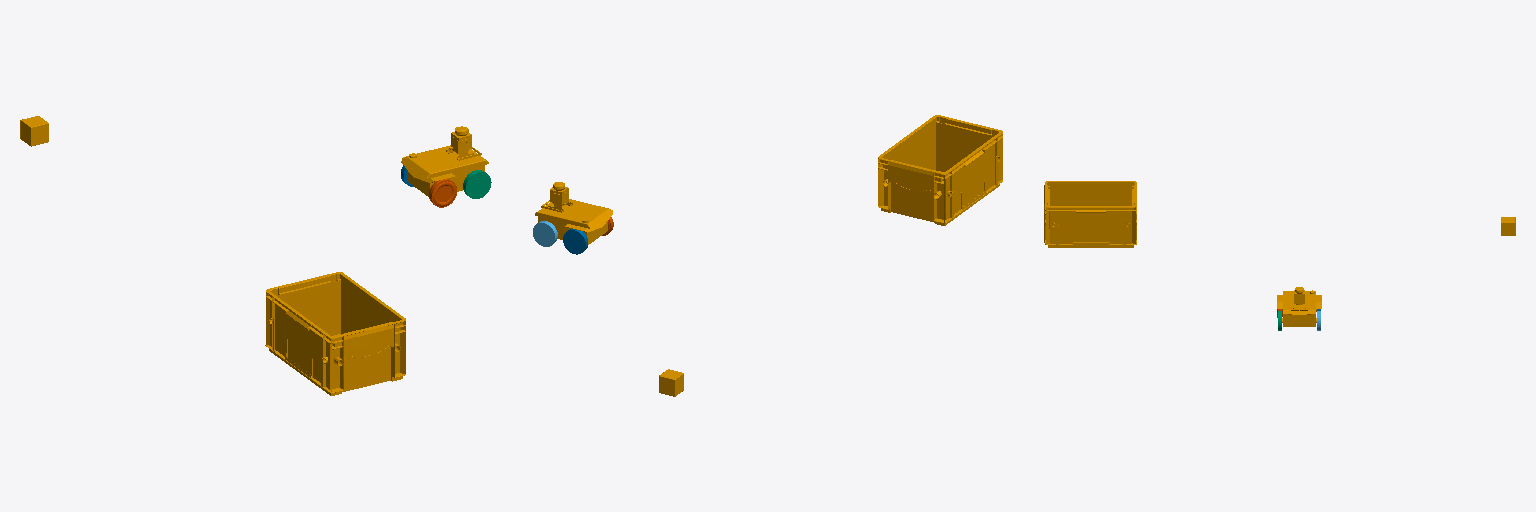
robot.urdf — jackal:
<?xml version="1.0" encoding="UTF-8"?>
<robot name="jackal">
  <joint name="front_left_wheel_joint" type="continuous">
    <origin xyz="0.131 0.187795 0.0945 " rpy="0. 0. 1.5707964"/>
    <parent link="World"/>
    <child link="front_left_wheel_link"/>
    <axis xyz="1. 0. 0."/>
  </joint>
  <joint name="front_right_wheel_joint" type="continuous">
    <origin xyz="0.131 -0.187795 0.0945 " rpy="0. 0. 1.5707964"/>
    <parent link="World"/>
    <child link="front_right_wheel_link"/>
    <axis xyz="1. 0. 0."/>
  </joint>
  <joint name="joint_World-imu_sensor" type="fixed">
    <origin xyz="0.012 0.002 0.127" rpy="0. 0. 0."/>
    <parent link="World"/>
    <child link="imu_sensor"/>
  </joint>
  <joint name="rear_left_wheel_joint" type="continuous">
    <origin xyz="-0.131 0.187795 0.0945 " rpy="0. 0. 1.5707964"/>
    <parent link="World"/>
    <child link="rear_left_wheel_link"/>
    <axis xyz="1. 0. 0."/>
  </joint>
  <joint name="rear_right_wheel_joint" type="continuous">
    <origin xyz="-0.131 -0.187795 0.0945 " rpy="0. 0. 1.5707964"/>
    <parent link="World"/>
    <child link="rear_right_wheel_link"/>
    <axis xyz="1. 0. 0."/>
  </joint>
  <link name="World">
    <visual>
      <origin xyz="2. 2. 0.1" rpy="0. 0. 0."/>
      <geometry>
        <mesh filename="meshes/blue_block_Cube.obj" scale="0.075 0.075 0.075"/>
      </geometry>
    </visual>
    <visual>
      <origin xyz="-2. 2. 0.1" rpy="0. 0. 0."/>
      <geometry>
        <mesh filename="meshes/green_block_Cube.obj" scale="0.075 0.075 0.075"/>
      </geometry>
    </visual>
    <visual>
      <origin xyz="-1.7158464 -2.0010953 0.0436631" rpy="1.5707965 0. -3.1415918"/>
      <geometry>
        <mesh filename="meshes/FOF_Mesh_Label_1.obj" scale="0.0141693 0.0167072 0.0157485"/>
      </geometry>
    </visual>
    <visual>
      <origin xyz="-2.022915 -2.4393725 0.3061002" rpy="1.7978897 0.0094443 1.5906025"/>
      <geometry>
        <mesh filename="meshes/FOF_Mesh_Label_6_Small.obj" scale="0.0126918 0.0134162 0.0129945"/>
      </geometry>
    </visual>
    <visual>
      <origin xyz="-2. -2. 0.0014402" rpy="1.5707965 0. 0. "/>
      <geometry>
        <mesh filename="meshes/FOF_Mesh_Magenta_Box.obj" scale="0.02976 0.03219 0.02976"/>
      </geometry>
    </visual>
    <visual>
      <origin xyz="2. -2. 0.1" rpy="0. 0. 0."/>
      <geometry>
        <mesh filename="meshes/red_block_Cube.obj" scale="0.075 0.075 0.075"/>
      </geometry>
    </visual>
    <visual>
      <origin xyz="0. 0. -0.0055" rpy="1.5707964 -0. 1.5707964"/>
      <geometry>
        <mesh filename="meshes/mesh_0.obj" scale="1. 1. 1."/>
      </geometry>
    </visual>
    <visual>
      <origin xyz="0. 0. 0.06" rpy="0. 0. 0."/>
      <geometry>
        <mesh filename="meshes/mesh_1.obj" scale="1. 1. 1."/>
      </geometry>
    </visual>
    <visual>
      <origin xyz="0.12 0. 0.244" rpy="1.5707 -0. 1.5707"/>
      <geometry>
        <mesh filename="meshes/mesh_2.obj" scale="0.001 0.001 0.001"/>
      </geometry>
    </visual>
    <visual>
      <origin xyz="0.222 0. 0.252" rpy="0. 0. 1.5707"/>
      <geometry>
        <mesh filename="meshes/mesh_3.obj" scale="0.001 0.001 0.001"/>
      </geometry>
    </visual>
    <visual>
      <origin xyz="0.12 0. 0.244" rpy="0. 0. 0."/>
      <geometry>
        <mesh filename="meshes/mesh_5.obj" scale="1. 1. 1."/>
      </geometry>
    </visual>
    <visual>
      <origin xyz="0.12 0. 0.393" rpy="0. 0. 0."/>
      <geometry>
        <mesh filename="meshes/mesh_6.obj" scale="1. 1. 1."/>
      </geometry>
    </visual>
    <visual>
      <origin xyz="-0.18 0.126 0.2495" rpy="0. 0. 0."/>
      <geometry>
        <cylinder radius="0.026" length="0.016"/>
      </geometry>
    </visual>
    <visual>
      <origin xyz="0. 0. 0.06" rpy="0. 0. -3.1415925"/>
      <geometry>
        <mesh filename="meshes/mesh_8.obj" scale="1. 1. 1."/>
      </geometry>
    </visual>
    <visual>
      <origin xyz="0. 0. 0.152" rpy="0. 0. 0."/>
      <geometry>
        <box size="0.42 0.31 0.184"/>
      </geometry>
    </visual>
    <visual>
      <origin xyz="0.12 0. 0.343" rpy="0. 0. 0."/>
      <geometry>
        <box size="0.105 0.1 0.1 "/>
      </geometry>
    </visual>
    <collision>
      <origin xyz="2. 2. 0.1" rpy="0. 0. 0."/>
      <geometry>
        <mesh filename="meshes/blue_block_Cube.obj" scale="0.075 0.075 0.075"/>
      </geometry>
    </collision>
    <collision>
      <origin xyz="-2. 2. 0.1" rpy="0. 0. 0."/>
      <geometry>
        <mesh filename="meshes/green_block_Cube.obj" scale="0.075 0.075 0.075"/>
      </geometry>
    </collision>
    <collision>
      <origin xyz="-2. -2.427692 0.2390334" rpy="0. 0. 0."/>
      <geometry>
        <box size="0.54 0.03 0.405069"/>
      </geometry>
    </collision>
    <collision>
      <origin xyz="-2. -1.57232 0.2390334" rpy="0. 0. 0."/>
      <geometry>
        <box size="0.54 0.03 0.405069"/>
      </geometry>
    </collision>
    <collision>
      <origin xyz="-2.2775 -2. 0.2390334" rpy="0. 0. 0."/>
      <geometry>
        <box size="0.03 0.888 0.405069"/>
      </geometry>
    </collision>
    <collision>
      <origin xyz="-2. -2. 0.0047484" rpy="0. 0. 0."/>
      <geometry>
        <box size="0.507 0.78 0.0075"/>
      </geometry>
    </collision>
    <collision>
      <origin xyz="-1.7225 -2. 0.2390334" rpy="0. 0. 0."/>
      <geometry>
        <box size="0.03 0.888 0.405069"/>
      </geometry>
    </collision>
    <collision>
      <origin xyz="-2. -2.395806 0.1950114" rpy="0. 0. 0."/>
      <geometry>
        <box size="0.5069913 0.03 0.38628 "/>
      </geometry>
    </collision>
    <collision>
      <origin xyz="-2. -1.604674 0.1949748" rpy="0. 0. 0."/>
      <geometry>
        <box size="0.5069913 0.03 0.38628 "/>
      </geometry>
    </collision>
    <collision>
      <origin xyz="-2.245036 -2. 0.0216152" rpy="0. 0. 0."/>
      <geometry>
        <box size="0.03 0.821376 0.03219 "/>
      </geometry>
    </collision>
    <collision>
      <origin xyz="-1.7550635 -2. 0.0216152" rpy="0. 0. 0."/>
      <geometry>
        <box size="0.03 0.821376 0.03219 "/>
      </geometry>
    </collision>
    <collision>
      <origin xyz="2. -2. 0.1" rpy="0. 0. 0."/>
      <geometry>
        <mesh filename="meshes/red_block_Cube.obj" scale="0.075 0.075 0.075"/>
      </geometry>
    </collision>
    <collision>
      <origin xyz="0. 0. 0.152" rpy="0. 0. 0."/>
      <geometry>
        <box size="0.42 0.31 0.184"/>
      </geometry>
    </collision>
    <collision>
      <origin xyz="0.12 0. 0.343" rpy="0. 0. 0."/>
      <geometry>
        <box size="0.105 0.1 0.1 "/>
      </geometry>
    </collision>
  </link>
  <link name="front_left_wheel_link">
    <inertial>
      <origin xyz="0. 0. 0." rpy="0. 0. 0."/>
      <mass value="0.477"/>
      <inertia ixx="0." ixy="0." ixz="0." iyy="0." iyz="0." izz="0."/>
    </inertial>
    <visual>
      <origin xyz="0. 0. 0." rpy="1.5707964 0. -1.5707964"/>
      <geometry>
        <mesh filename="meshes/front_left_wheel_link_visuals.obj" scale="1. 1. 1."/>
      </geometry>
    </visual>
    <visual>
      <origin xyz="0. 0. 0." rpy="1.5707964 0. -1.5707964"/>
      <geometry>
        <cylinder radius="0.098" length="0.04"/>
      </geometry>
    </visual>
    <collision>
      <origin xyz="0. 0. 0." rpy="1.5707964 0. -1.5707964"/>
      <geometry>
        <cylinder radius="0.098" length="0.04"/>
      </geometry>
    </collision>
  </link>
  <link name="front_right_wheel_link">
    <inertial>
      <origin xyz="0. 0. 0." rpy="0. 0. 0."/>
      <mass value="0.477"/>
      <inertia ixx="0." ixy="0." ixz="0." iyy="0." iyz="0." izz="0."/>
    </inertial>
    <visual>
      <origin xyz="0. 0. 0." rpy="1.5707964 0. -1.5707964"/>
      <geometry>
        <mesh filename="meshes/front_right_wheel_link_visuals.obj" scale="1. 1. 1."/>
      </geometry>
    </visual>
    <visual>
      <origin xyz="0. 0. 0." rpy="1.5707964 0. -1.5707964"/>
      <geometry>
        <cylinder radius="0.098" length="0.04"/>
      </geometry>
    </visual>
    <collision>
      <origin xyz="0. 0. 0." rpy="1.5707964 0. -1.5707964"/>
      <geometry>
        <cylinder radius="0.098" length="0.04"/>
      </geometry>
    </collision>
  </link>
  <link name="imu_sensor"/>
  <link name="rear_left_wheel_link">
    <inertial>
      <origin xyz="0. 0. 0." rpy="0. 0. 0."/>
      <mass value="0.477"/>
      <inertia ixx="0." ixy="0." ixz="0." iyy="0." iyz="0." izz="0."/>
    </inertial>
    <visual>
      <origin xyz="0. 0. 0." rpy="1.5707964 0. -1.5707964"/>
      <geometry>
        <mesh filename="meshes/rear_left_wheel_link_visuals.obj" scale="1. 1. 1."/>
      </geometry>
    </visual>
    <visual>
      <origin xyz="0. 0. 0." rpy="1.5707964 0. -1.5707964"/>
      <geometry>
        <cylinder radius="0.098" length="0.04"/>
      </geometry>
    </visual>
    <collision>
      <origin xyz="0. 0. 0." rpy="1.5707964 0. -1.5707964"/>
      <geometry>
        <cylinder radius="0.098" length="0.04"/>
      </geometry>
    </collision>
  </link>
  <link name="rear_right_wheel_link">
    <inertial>
      <origin xyz="0. 0. 0." rpy="0. 0. 0."/>
      <mass value="0.477"/>
      <inertia ixx="0." ixy="0." ixz="0." iyy="0." iyz="0." izz="0."/>
    </inertial>
    <visual>
      <origin xyz="0. 0. 0." rpy="1.5707964 0. -1.5707964"/>
      <geometry>
        <mesh filename="meshes/rear_right_wheel_link_visuals.obj" scale="1. 1. 1."/>
      </geometry>
    </visual>
    <visual>
      <origin xyz="0. 0. 0." rpy="1.5707964 0. -1.5707964"/>
      <geometry>
        <cylinder radius="0.098" length="0.04"/>
      </geometry>
    </visual>
    <collision>
      <origin xyz="0. 0. 0." rpy="1.5707964 0. -1.5707964"/>
      <geometry>
        <cylinder radius="0.098" length="0.04"/>
      </geometry>
    </collision>
  </link>
</robot>

--- Render facts (derived) ---
Views: 3 orthographic renders of the robot side by side, from view 1: azimuth 30°, elevation 25°; view 2: azimuth 150°, elevation 25°; view 3: azimuth 270°, elevation 25°.
Model jackal with 6 links and 5 joints (4 continuous, 1 fixed), rooted at World, posed every joint at zero.
Links seen in each view (by area): view 1: World, front_right_wheel_link, rear_right_wheel_link; view 2: World; view 3: World.
Link boxes in pixels (x1=…): World: x1=20, y1=116, x2=488, y2=395; front_right_wheel_link: x1=463, y1=170, x2=491, y2=198; rear_right_wheel_link: x1=429, y1=179, x2=456, y2=207; World: x1=535, y1=115, x2=1002, y2=396; World: x1=1044, y1=181, x2=1515, y2=326.
Size in the robot's own frame: 2.55 by 4.52 by 0.4459 metres.
Meshes: 17 distinct files referenced, 11 mesh visuals loaded (11 OBJ); not drawn: 6 (reference not matched to a file when rendering).